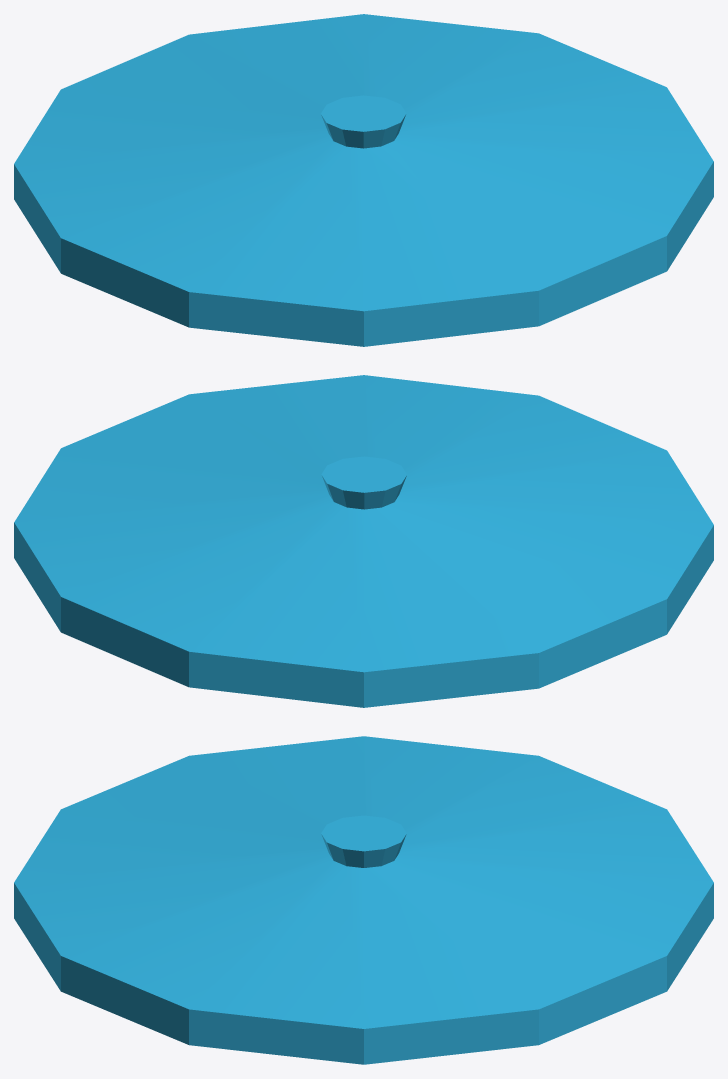
File: Box_Top.fbx
3 views of the same model, one above another, from view 1: azimuth 30°, elevation 25°; view 2: azimuth 150°, elevation 25°; view 3: azimuth 270°, elevation 25° (orthographic).
Visible parts, largest first — view 1: pCylinder2; view 2: pCylinder2; view 3: pCylinder2.
Boxes of the visible parts, left/top/right/bottom form: pCylinder2: left=14, top=14, right=713, bottom=346; pCylinder2: left=14, top=375, right=713, bottom=707; pCylinder2: left=14, top=736, right=713, bottom=1064.
Size of the model in its own units: 2.73 by 0.3722 by 2.73.
